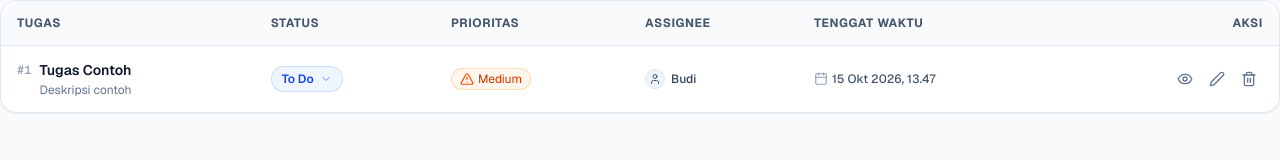
Test case: TaskTable › menu ubah status › klik tombol status lagi menutup menu
Click the button titled "Klik untuk mengubah status" at [307, 79], box [271,66,343,92]
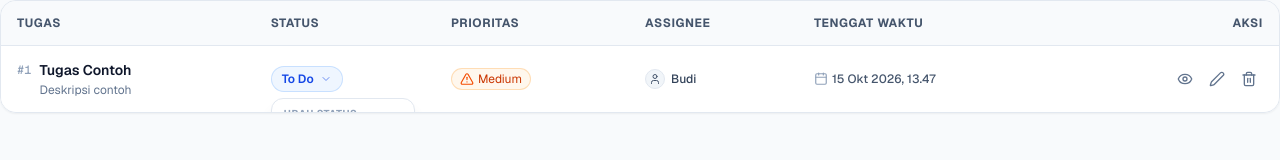
Click the button titled "Klik untuk mengubah status" at [307, 79], box [271,66,343,92]
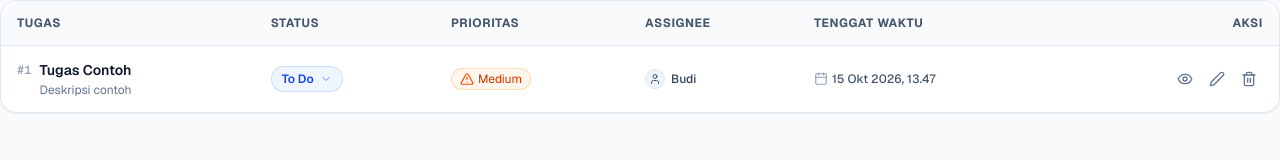
Expected: the text "Ubah Status" is gone
